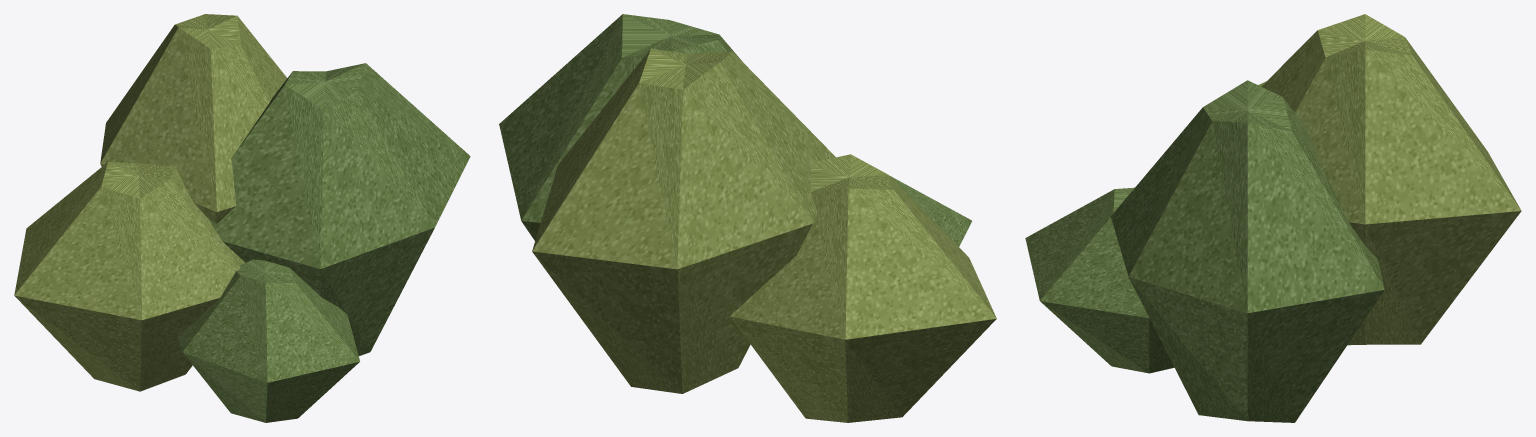
File: bush_round.glb
3 renders of one model, left to right at view 1: azimuth 30°, elevation 25°; view 2: azimuth 150°, elevation 25°; view 3: azimuth 270°, elevation 25°, orthographic. The views are drawn at different scales.
Visible parts, largest first — view 1: outdoor_bush_round; view 2: outdoor_bush_round; view 3: outdoor_bush_round.
Part boxes in pixels (x1,y1,x2,y2): outdoor_bush_round: (14,14,470,422); outdoor_bush_round: (499,14,996,422); outdoor_bush_round: (1025,14,1521,422).
Size of the model in its own units: 1.55 by 1.05 by 1.35.
1 material, 1 textured.
